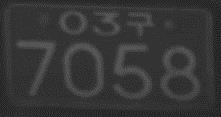0: (62, 41, 104, 98), (58, 8, 88, 36)
3: (91, 10, 120, 37)
5: (110, 43, 153, 101)
7: (15, 39, 57, 97)
8: (158, 43, 200, 103)
구: (125, 10, 153, 39)
